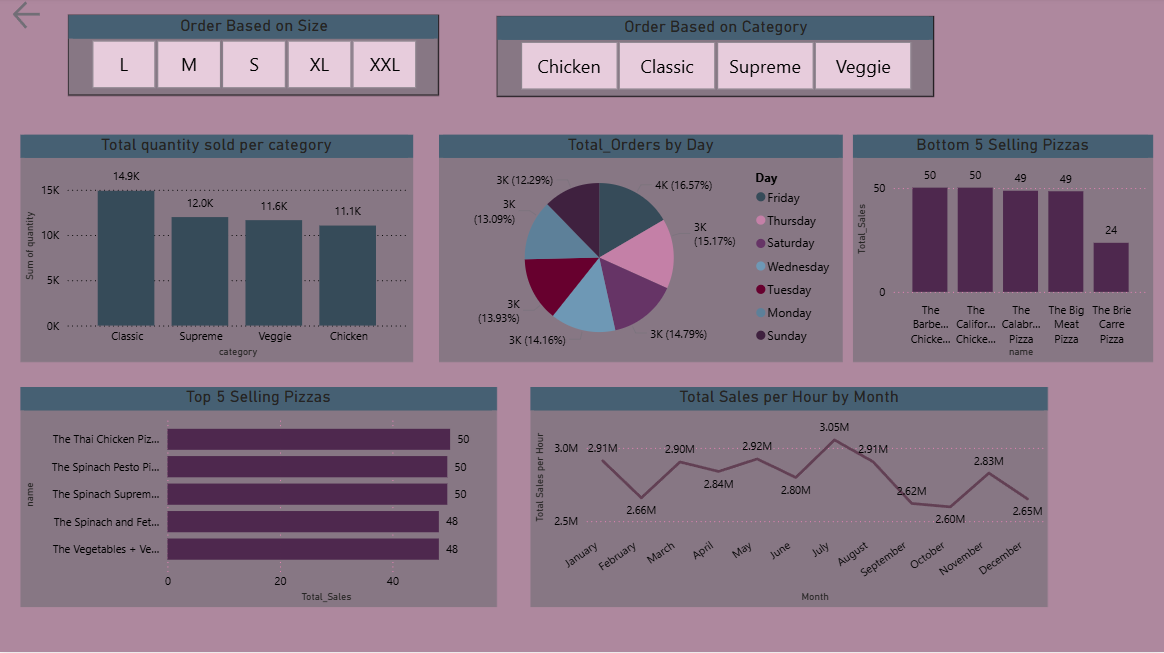

What the dashboard file says about the page in this screenshot:
{"tool":"powerbi","page":{"name":"Page 2","canvas":[1280,720],"ordinal":2},"visuals":[{"type":"columnChart","title":"Total quantity sold per category","fields":{"Category":["pizza_types.category"],"Y":["Sum(order_details.quantity)"]},"box":[23.3,150.9,430.9,249.7],"z":0},{"type":"pieChart","fields":{"Category":["orders.Day"],"Y":["orders.Total_Orders"]},"box":[483,150.9,443.2,249.7],"z":1000},{"type":"slicer","title":"Order Based on Size","fields":{"Values":["pizzas.size"]},"box":[75.5,19.2,407.5,89.2],"z":2000},{"type":"actionButton","box":[11,0,100.2,39.8],"z":3000},{"type":"slicer","title":"Order Based on Category","fields":{"Values":["pizza_types.category"]},"box":[546.1,20.6,480.3,89.2],"z":4000},{"type":"barChart","title":"Top 5 Selling Pizzas","fields":{"Category":["pizza_types.name"],"Y":["pizzas.Total_Sales"]},"box":[23.3,428.1,522.8,241.5],"z":5000},{"type":"lineChart","fields":{"Category":["orders.date.Variation.Date Hierarchy.Month"],"Y":["orders.Total Sales per Hour"]},"box":[583.2,428.1,568.1,241.5],"z":6000},{"type":"clusteredColumnChart","title":"Bottom 5 Selling Pizzas","fields":{"Category":["pizza_types.name"],"Y":["pizzas.Total_Sales"]},"box":[937.2,150.9,329.3,249.7],"z":7000}]}

Visuals, with their boxes in screenshot pixels (x1, y1, x2, y2), scaled from the page's 1280x720 canvas onto the 1164x653 screenshot:
"Total quantity sold per category" columnChart: left=21, top=137, right=413, bottom=363
pieChart - orders.Day x orders.Total_Orders: left=439, top=137, right=842, bottom=363
"Order Based on Size" slicer: left=69, top=17, right=439, bottom=98
actionButton: left=10, top=0, right=101, bottom=36
"Order Based on Category" slicer: left=497, top=19, right=933, bottom=100
"Top 5 Selling Pizzas" barChart: left=21, top=388, right=497, bottom=607
lineChart - orders.date.Variation.Date Hierarchy.Month x orders.Total Sales per Hour: left=530, top=388, right=1047, bottom=607
"Bottom 5 Selling Pizzas" clusteredColumnChart: left=852, top=137, right=1152, bottom=363
